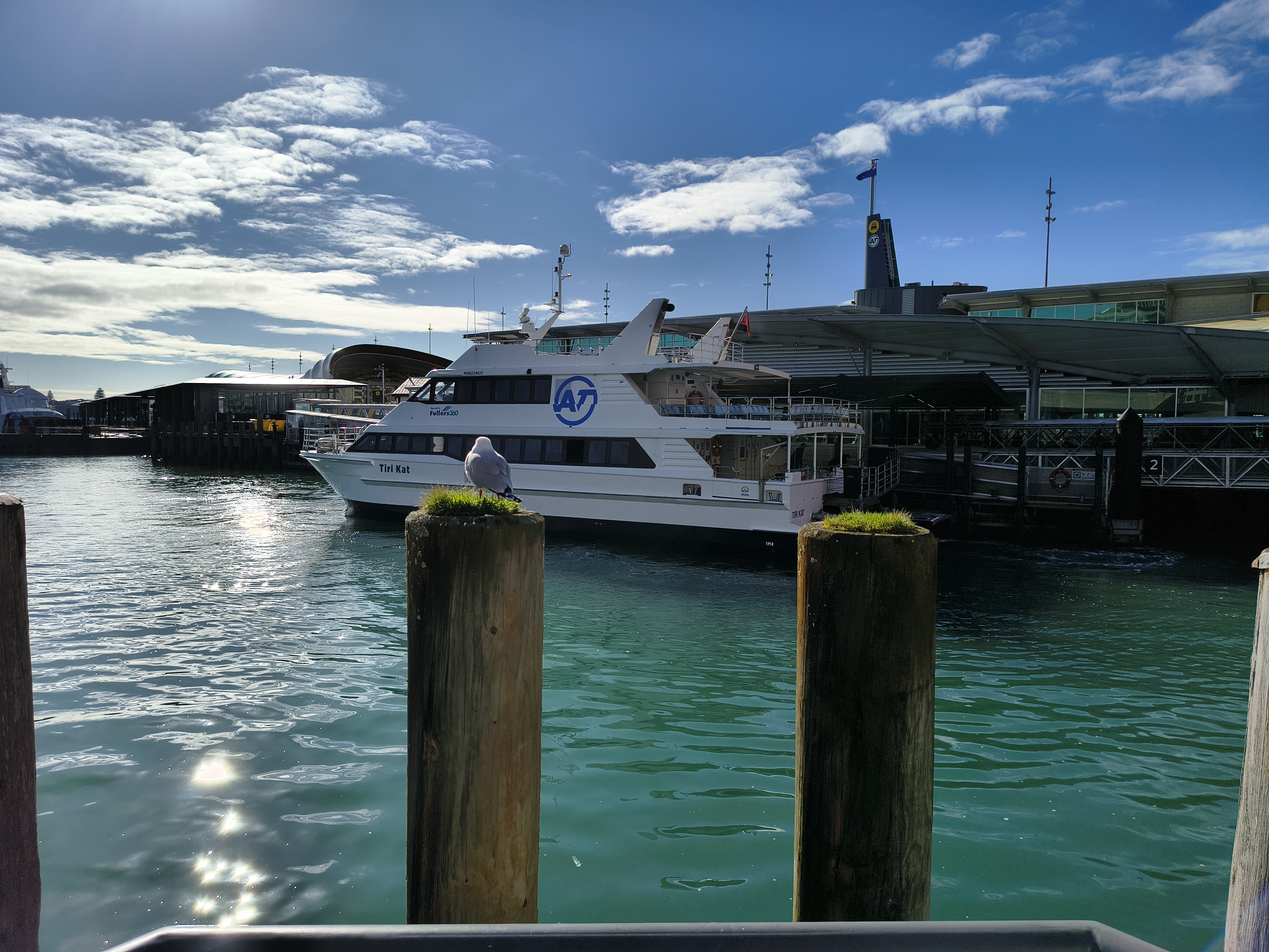ferry: (296, 298, 870, 569)
